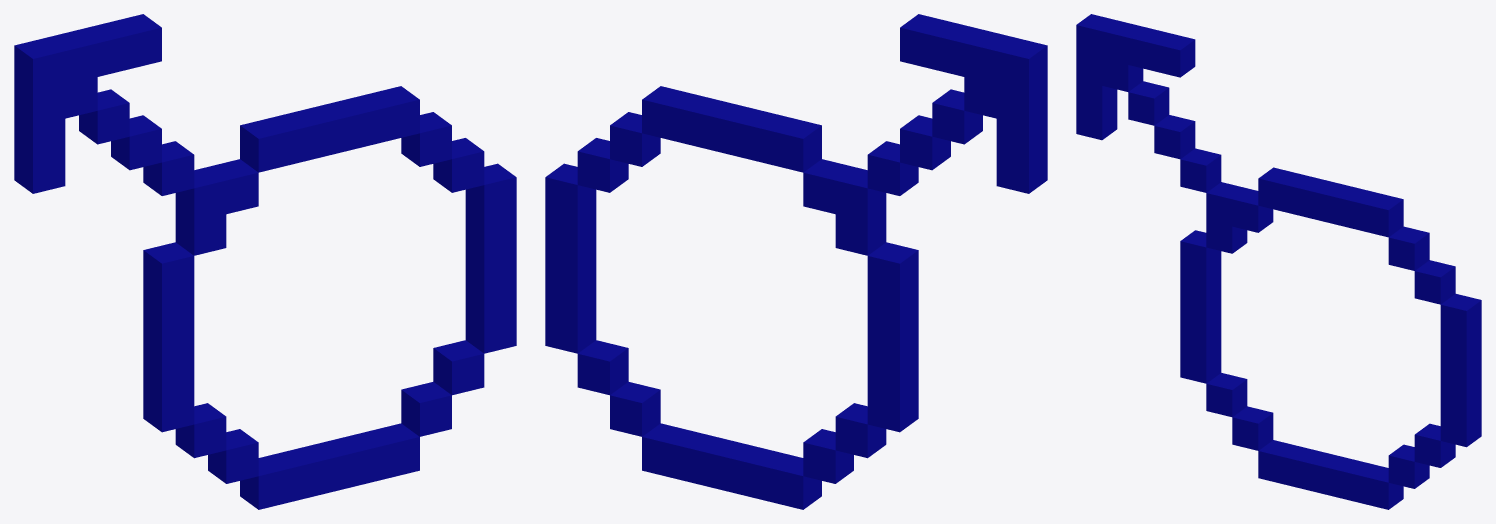
The model's file is neon_men_symbol.dae.
3 views of the same model, side by side, from view 1: azimuth 30°, elevation 25°; view 2: azimuth 150°, elevation 25°; view 3: azimuth 330°, elevation 25° (orthographic). The views are drawn at different scales.
Parts seen in each view (by area): view 1: Content; view 2: Content; view 3: Content.
Part boxes in pixels (box(x1,y1,x2,y2)): Content: box(14, 14, 516, 509); Content: box(545, 14, 1047, 509); Content: box(1076, 14, 1481, 509).
Size of the model in its own units: 15 by 15 by 1.
Materials: 1 (1 with a texture image).
